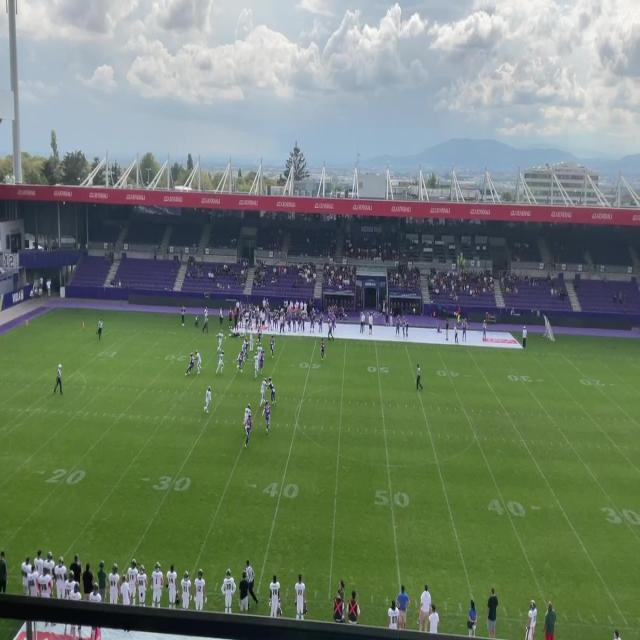2: (44, 464, 67, 492)
3: (597, 503, 629, 527), (154, 471, 173, 496)
4: (485, 494, 507, 521), (262, 479, 280, 503)
5: (372, 486, 391, 512)
american-football-players: (266, 374, 278, 407), (262, 400, 272, 436), (186, 352, 196, 378), (236, 350, 246, 376), (245, 414, 252, 451), (216, 350, 225, 378), (204, 386, 212, 415), (243, 403, 252, 428), (252, 353, 260, 381), (260, 376, 267, 407), (268, 333, 276, 360), (320, 336, 328, 362), (195, 351, 203, 376), (215, 329, 225, 349), (249, 328, 256, 354), (256, 324, 263, 348), (240, 335, 248, 353), (255, 340, 262, 358), (244, 340, 250, 360), (260, 349, 264, 372)
